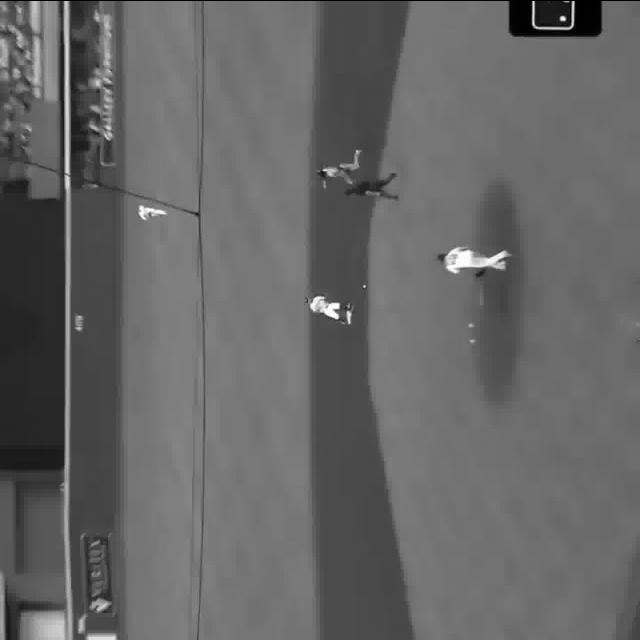base: (346, 305, 354, 323)
baseball: (362, 284, 367, 288)
shoe: (356, 146, 364, 152), (347, 300, 352, 308), (341, 318, 348, 323)
